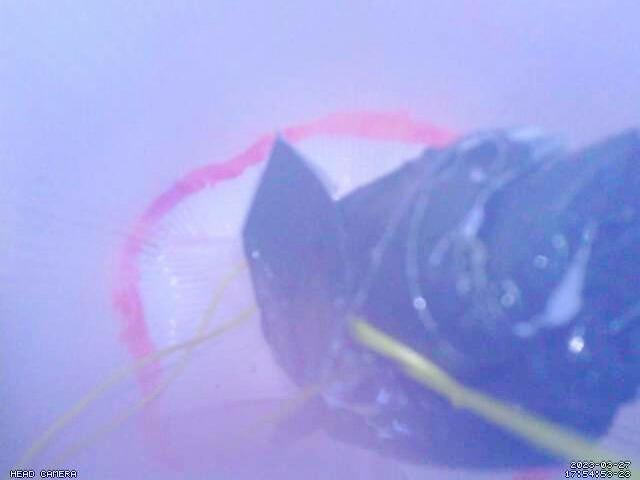head: (108, 108, 460, 480)
